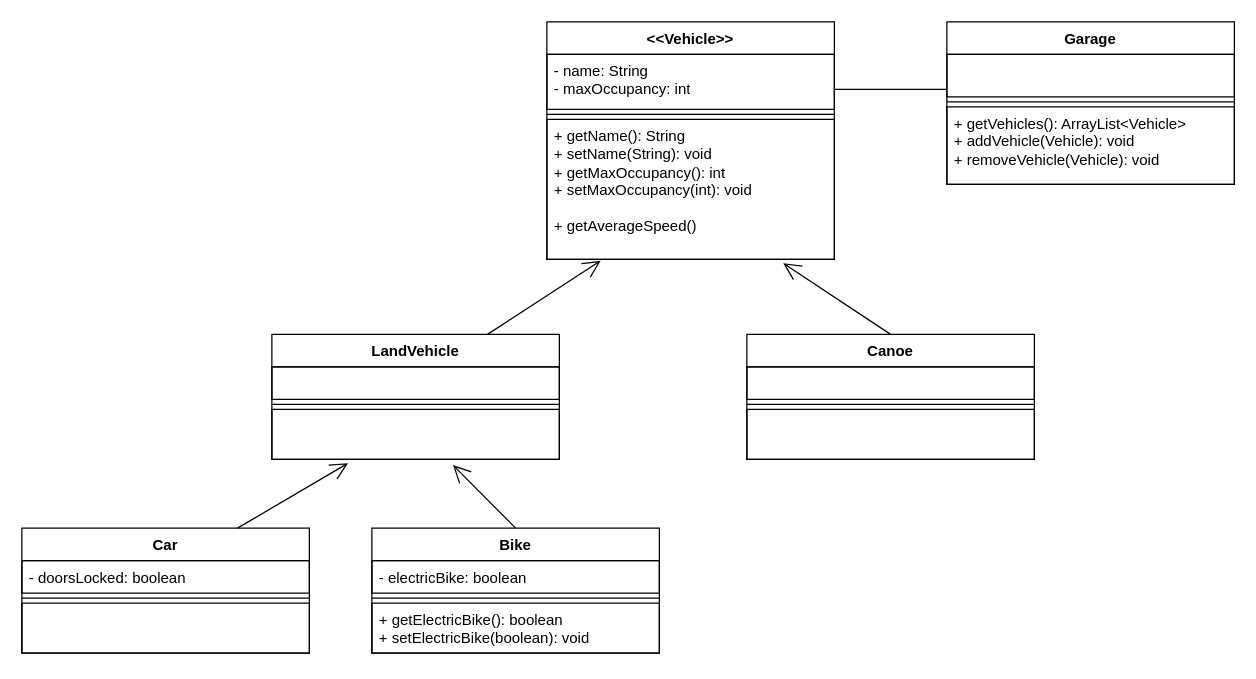
The diagram is 1256 pixels wide and 679 high, and some of its shapes have lost their labels. The centre of each missing label's shape, as x and y in pixels:
"+ getDoorsLocked(): boolean + setDoorsLocked(boolean): void" belongs at (x=165, y=627).
"+ getNoOfOars(): int + setNoOfOars(int): void" belongs at (x=890, y=433).
"+ getNoOfWheels(): int + setNoOfWheels(int): void" belongs at (x=415, y=433).
"- noOfOars: int" belongs at (x=890, y=382).
"- noOfWheels: int" belongs at (x=415, y=382).
"- vehicles: ArrayList<Vehicle>" belongs at (x=1090, y=75).
